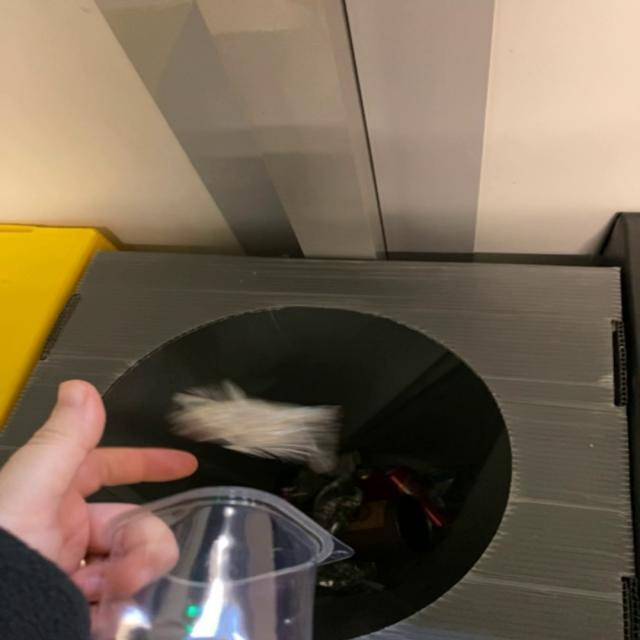Bin: (1, 252, 634, 640)
Metal: (167, 380, 340, 473)
